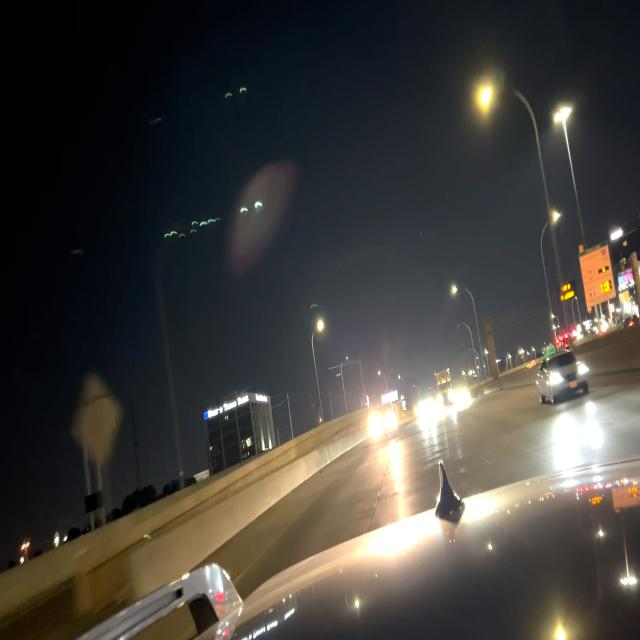back-of-sign: (75, 372, 123, 467)
